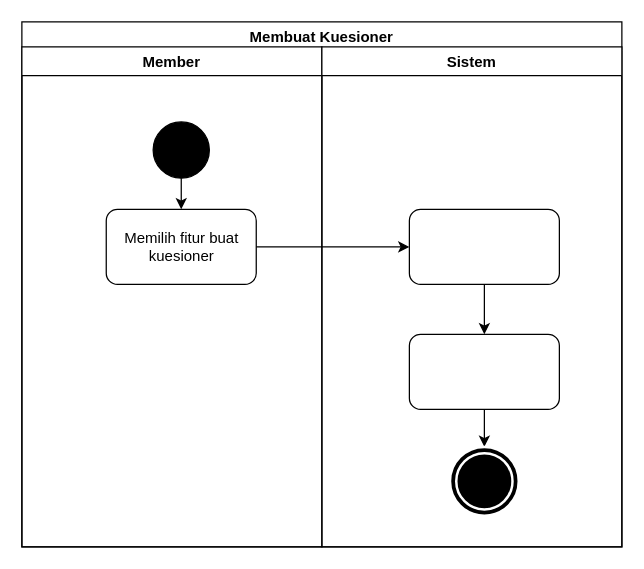
The diagram is 644 pixels wide and 569 high, and some of its shapes have lost their labels. The shapes that lost their labels are listed below. From the top down, each one's centre as x and y in pixels, then its label:
At [483,246]: "Membuat sebuah kuesioner baru".
At [483,371]: "Menampilkan halaman questionnaire editor".
